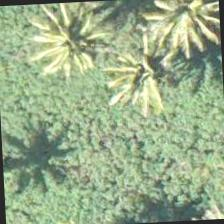Kelapa_Sawit: (92, 25, 186, 120), (21, 0, 116, 85), (135, 0, 221, 68)
